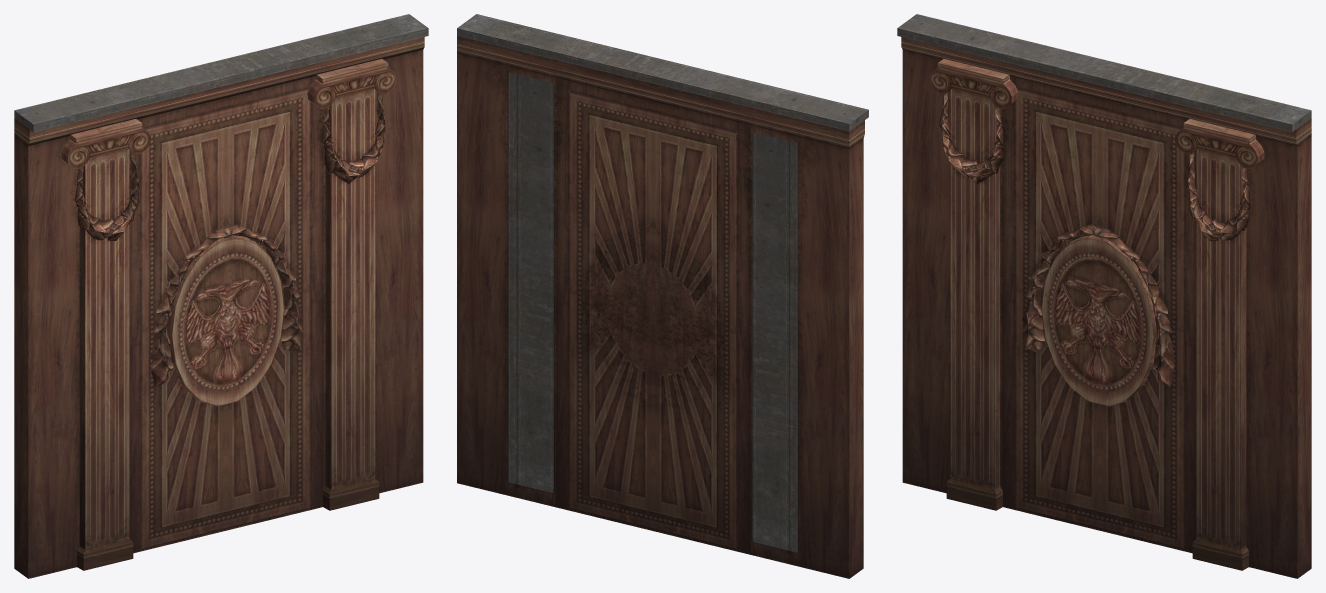
The model's file is bg_lut_lucastle_housedecowall02_sm_phs.FBX.
3 renders of one model, left to right at view 1: azimuth 30°, elevation 25°; view 2: azimuth 150°, elevation 25°; view 3: azimuth 330°, elevation 25°, orthographic.
Parts seen in each view (by area): view 1: bg_lut_lucastle_housedecowall02_sm_phs; view 2: bg_lut_lucastle_housedecowall02_sm_phs; view 3: bg_lut_lucastle_housedecowall02_sm_phs.
Part boxes in pixels (x1,y1,x2,y2): bg_lut_lucastle_housedecowall02_sm_phs: [14, 14, 428, 578]; bg_lut_lucastle_housedecowall02_sm_phs: [457, 14, 868, 578]; bg_lut_lucastle_housedecowall02_sm_phs: [897, 14, 1311, 578].
Size of the model in its own units: 384 by 426 by 42.65.
